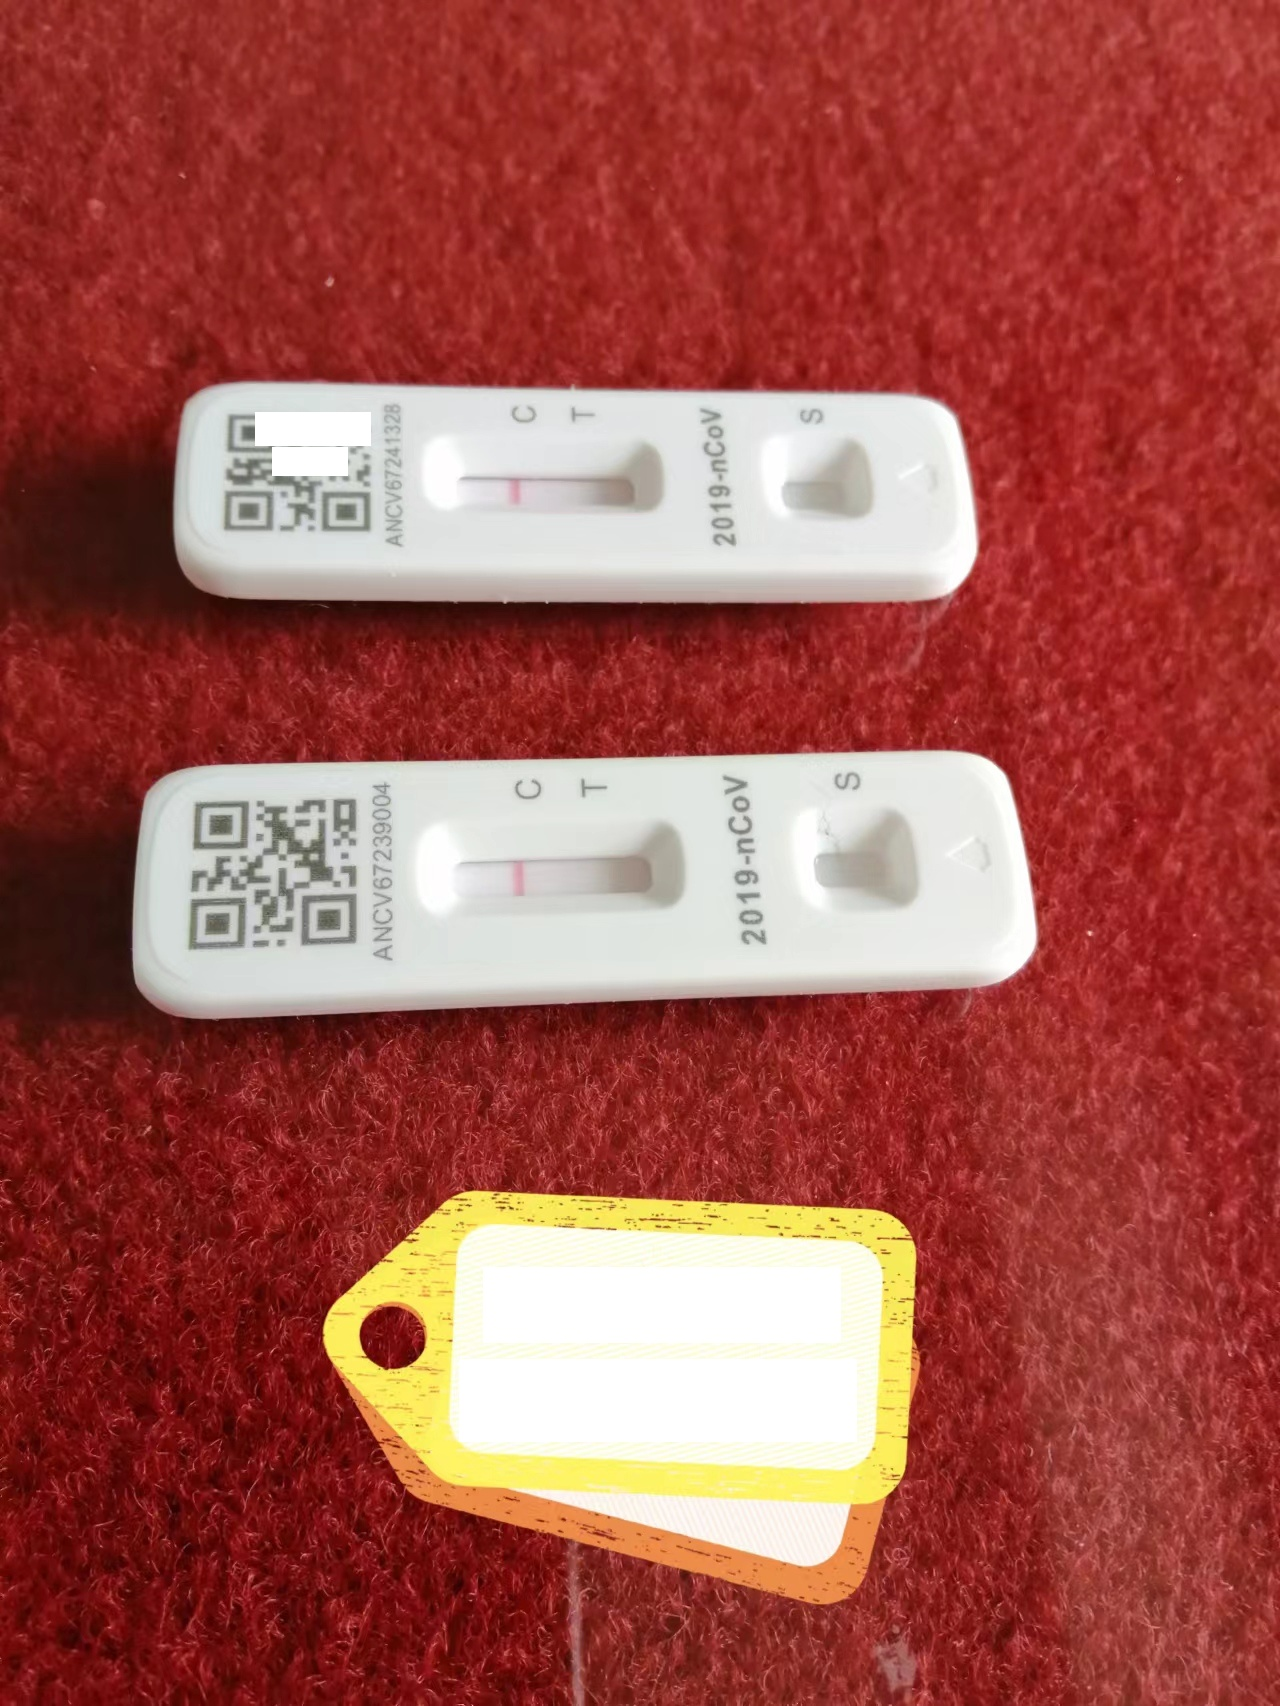negative: (411, 824, 696, 932), (429, 437, 666, 519)
